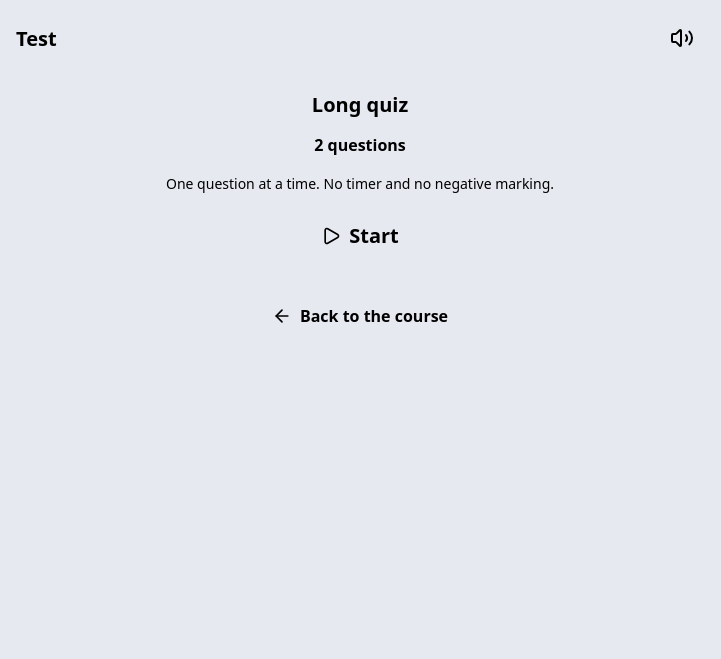
Test: test game layout at 1366 px › result: stars and the three buttons are shown, the game is saved once, no overlap
Click the button "Start": {"x": 360, "y": 236} [297,210,423,262]
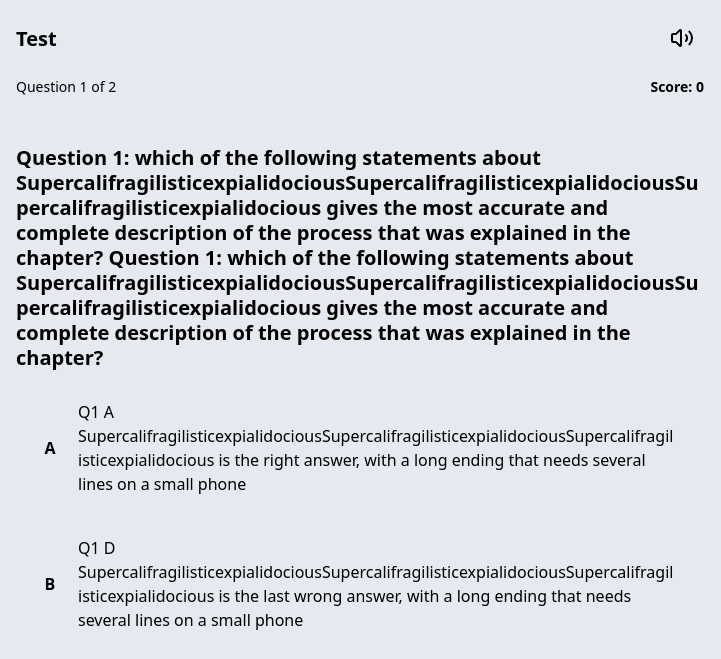
Expected: the 2nd heading is shown, [16,145,704,370]
Click the 2nd button: {"x": 360, "y": 448} [16,386,704,510]
(page scrolled)
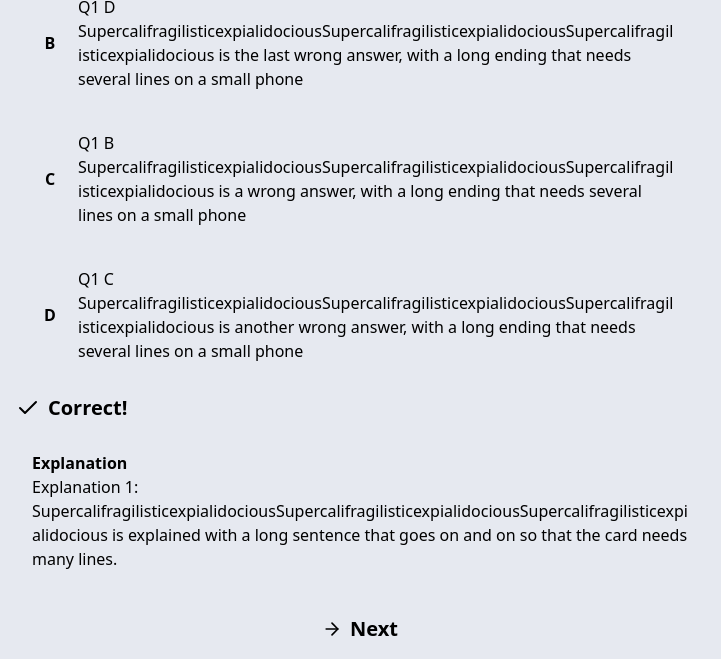
Click the button "Next": {"x": 360, "y": 629} [16,603,704,655]
(page scrolled)
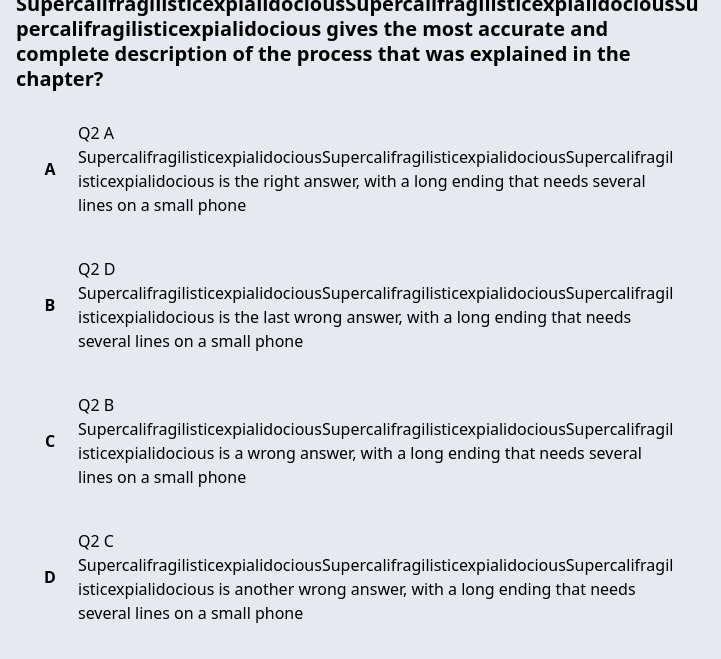
Click the 3rd button: {"x": 360, "y": 441} [16,379,704,503]
(page scrolled)
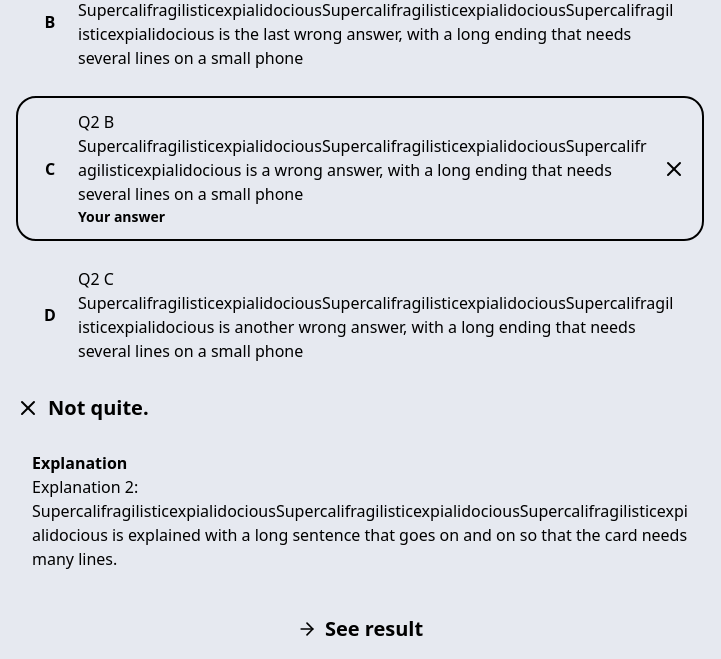
Click the button "See result": {"x": 360, "y": 629} [16,603,704,655]
(page scrolled)
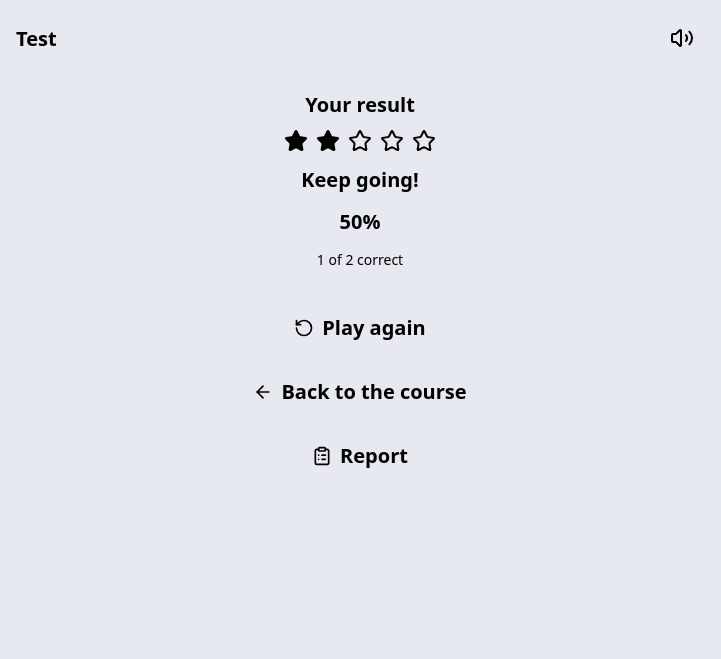
Expected: the button "Play again" is shown, [16,302,704,354]
Expected: the button "Report" is shown, [16,430,704,482]
Expected: the button "Back to the course" is shown, [16,366,704,418]
